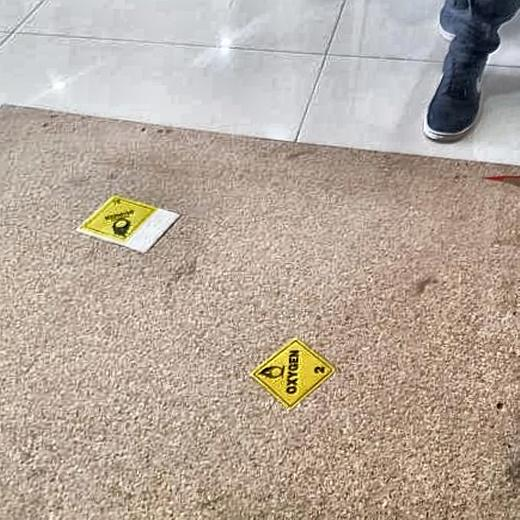oxidizer: (251, 337, 340, 412), (75, 193, 163, 245)
